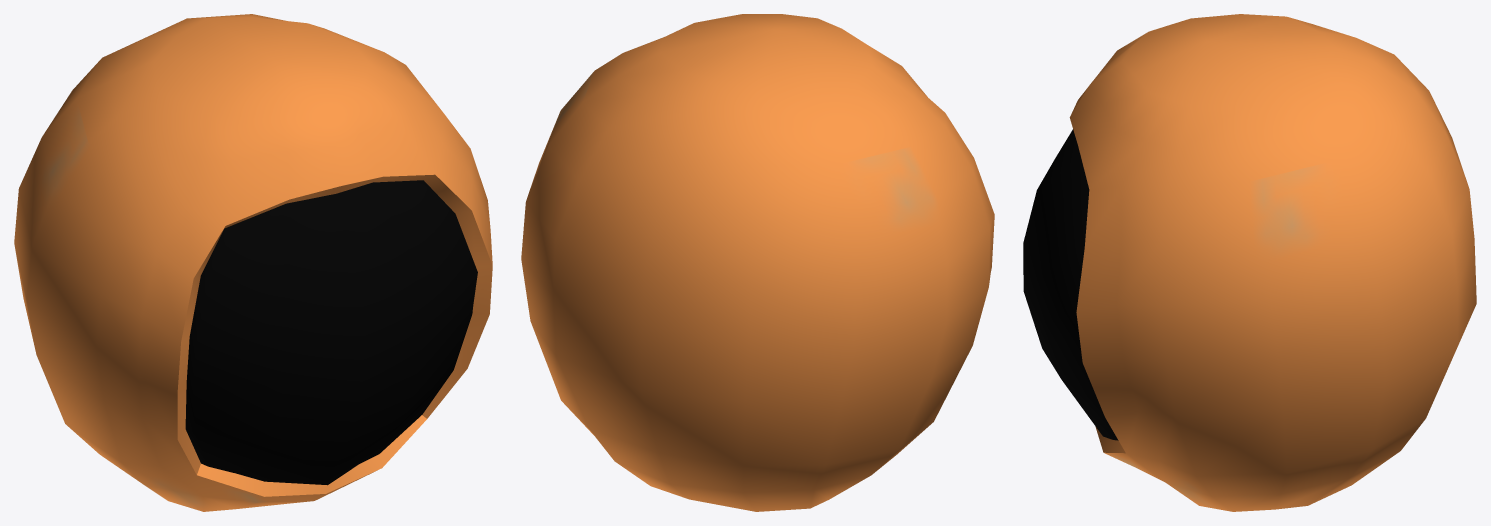
File: Astronaut_Head.fbx
The picture shows the model from 3 angles, left to right: view 1: azimuth 30°, elevation 25°; view 2: azimuth 150°, elevation 25°; view 3: azimuth 270°, elevation 25°; orthographic projection.
Visible parts, largest first — view 1: Astronaut_Head; view 2: Astronaut_Head; view 3: Astronaut_Head.
Boxes of the visible parts, x1,y1,x2,y2 form: Astronaut_Head: [14, 14, 492, 511]; Astronaut_Head: [521, 14, 994, 511]; Astronaut_Head: [1023, 14, 1476, 511].
Size of the model in its own units: 0.4924 by 0.4884 by 0.4664.
